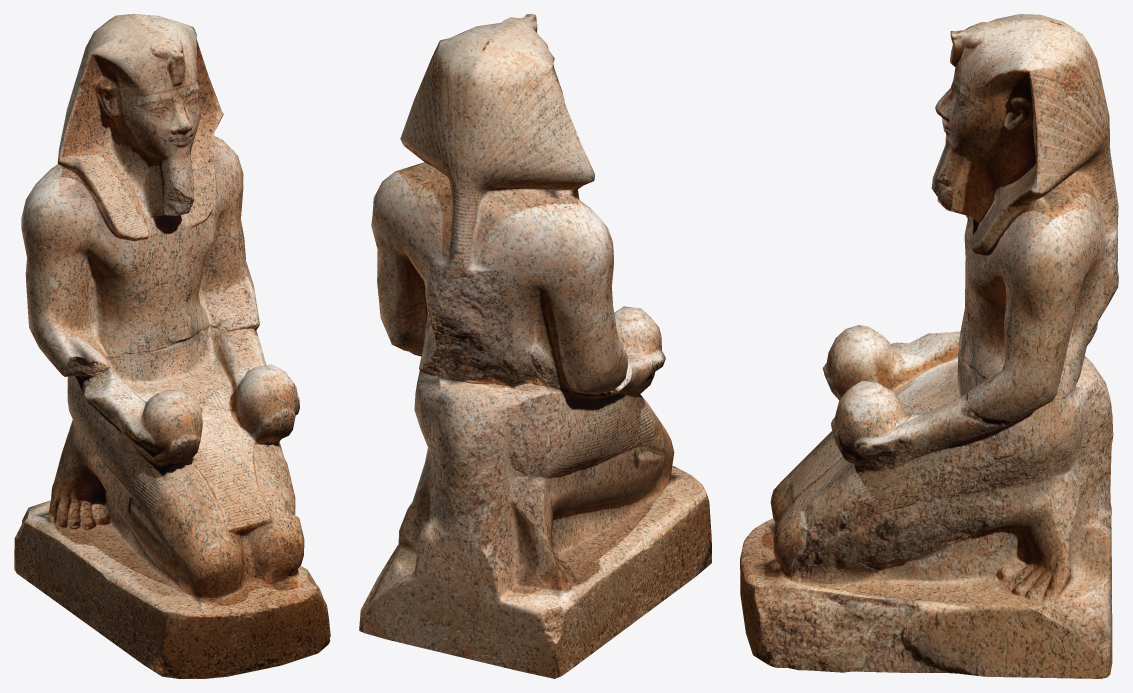
File: Amenhotep_II.fbx
The picture shows the model from 3 angles, left to right: view 1: azimuth 30°, elevation 25°; view 2: azimuth 150°, elevation 25°; view 3: azimuth 270°, elevation 25°; orthographic projection. The views are drawn at different scales.
Visible parts, largest first — view 1: Amenhotep_II_LOD0; view 2: Amenhotep_II_LOD0; view 3: Amenhotep_II_LOD0.
Part boxes in pixels (x1,y1,x2,y2): Amenhotep_II_LOD0: (14,14,330,678); Amenhotep_II_LOD0: (359,14,711,678); Amenhotep_II_LOD0: (740,14,1118,678).
Size of what is drawn, in the model's own units: 65.08 by 160 by 90.53.
